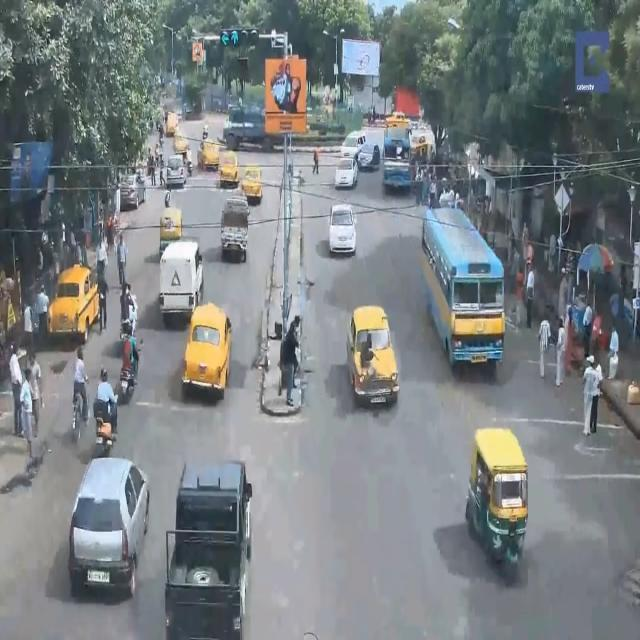accident: (343, 301, 402, 408)
